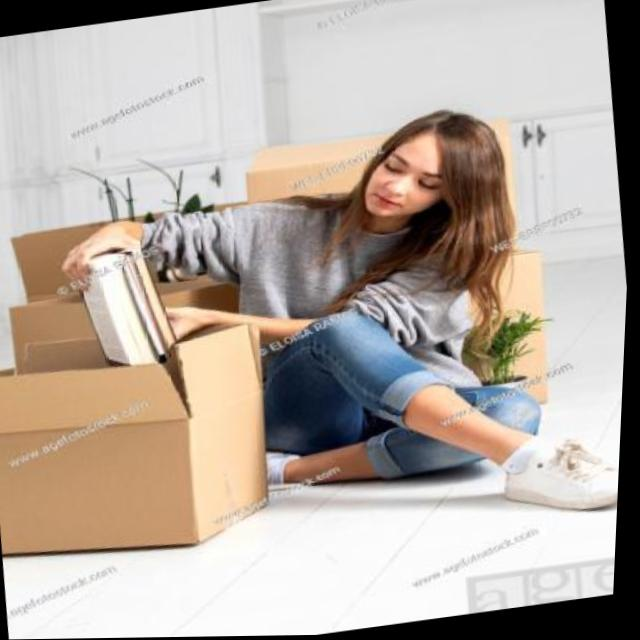box: (0, 327, 305, 577), (0, 209, 201, 407), (435, 239, 598, 426), (231, 122, 391, 232)
